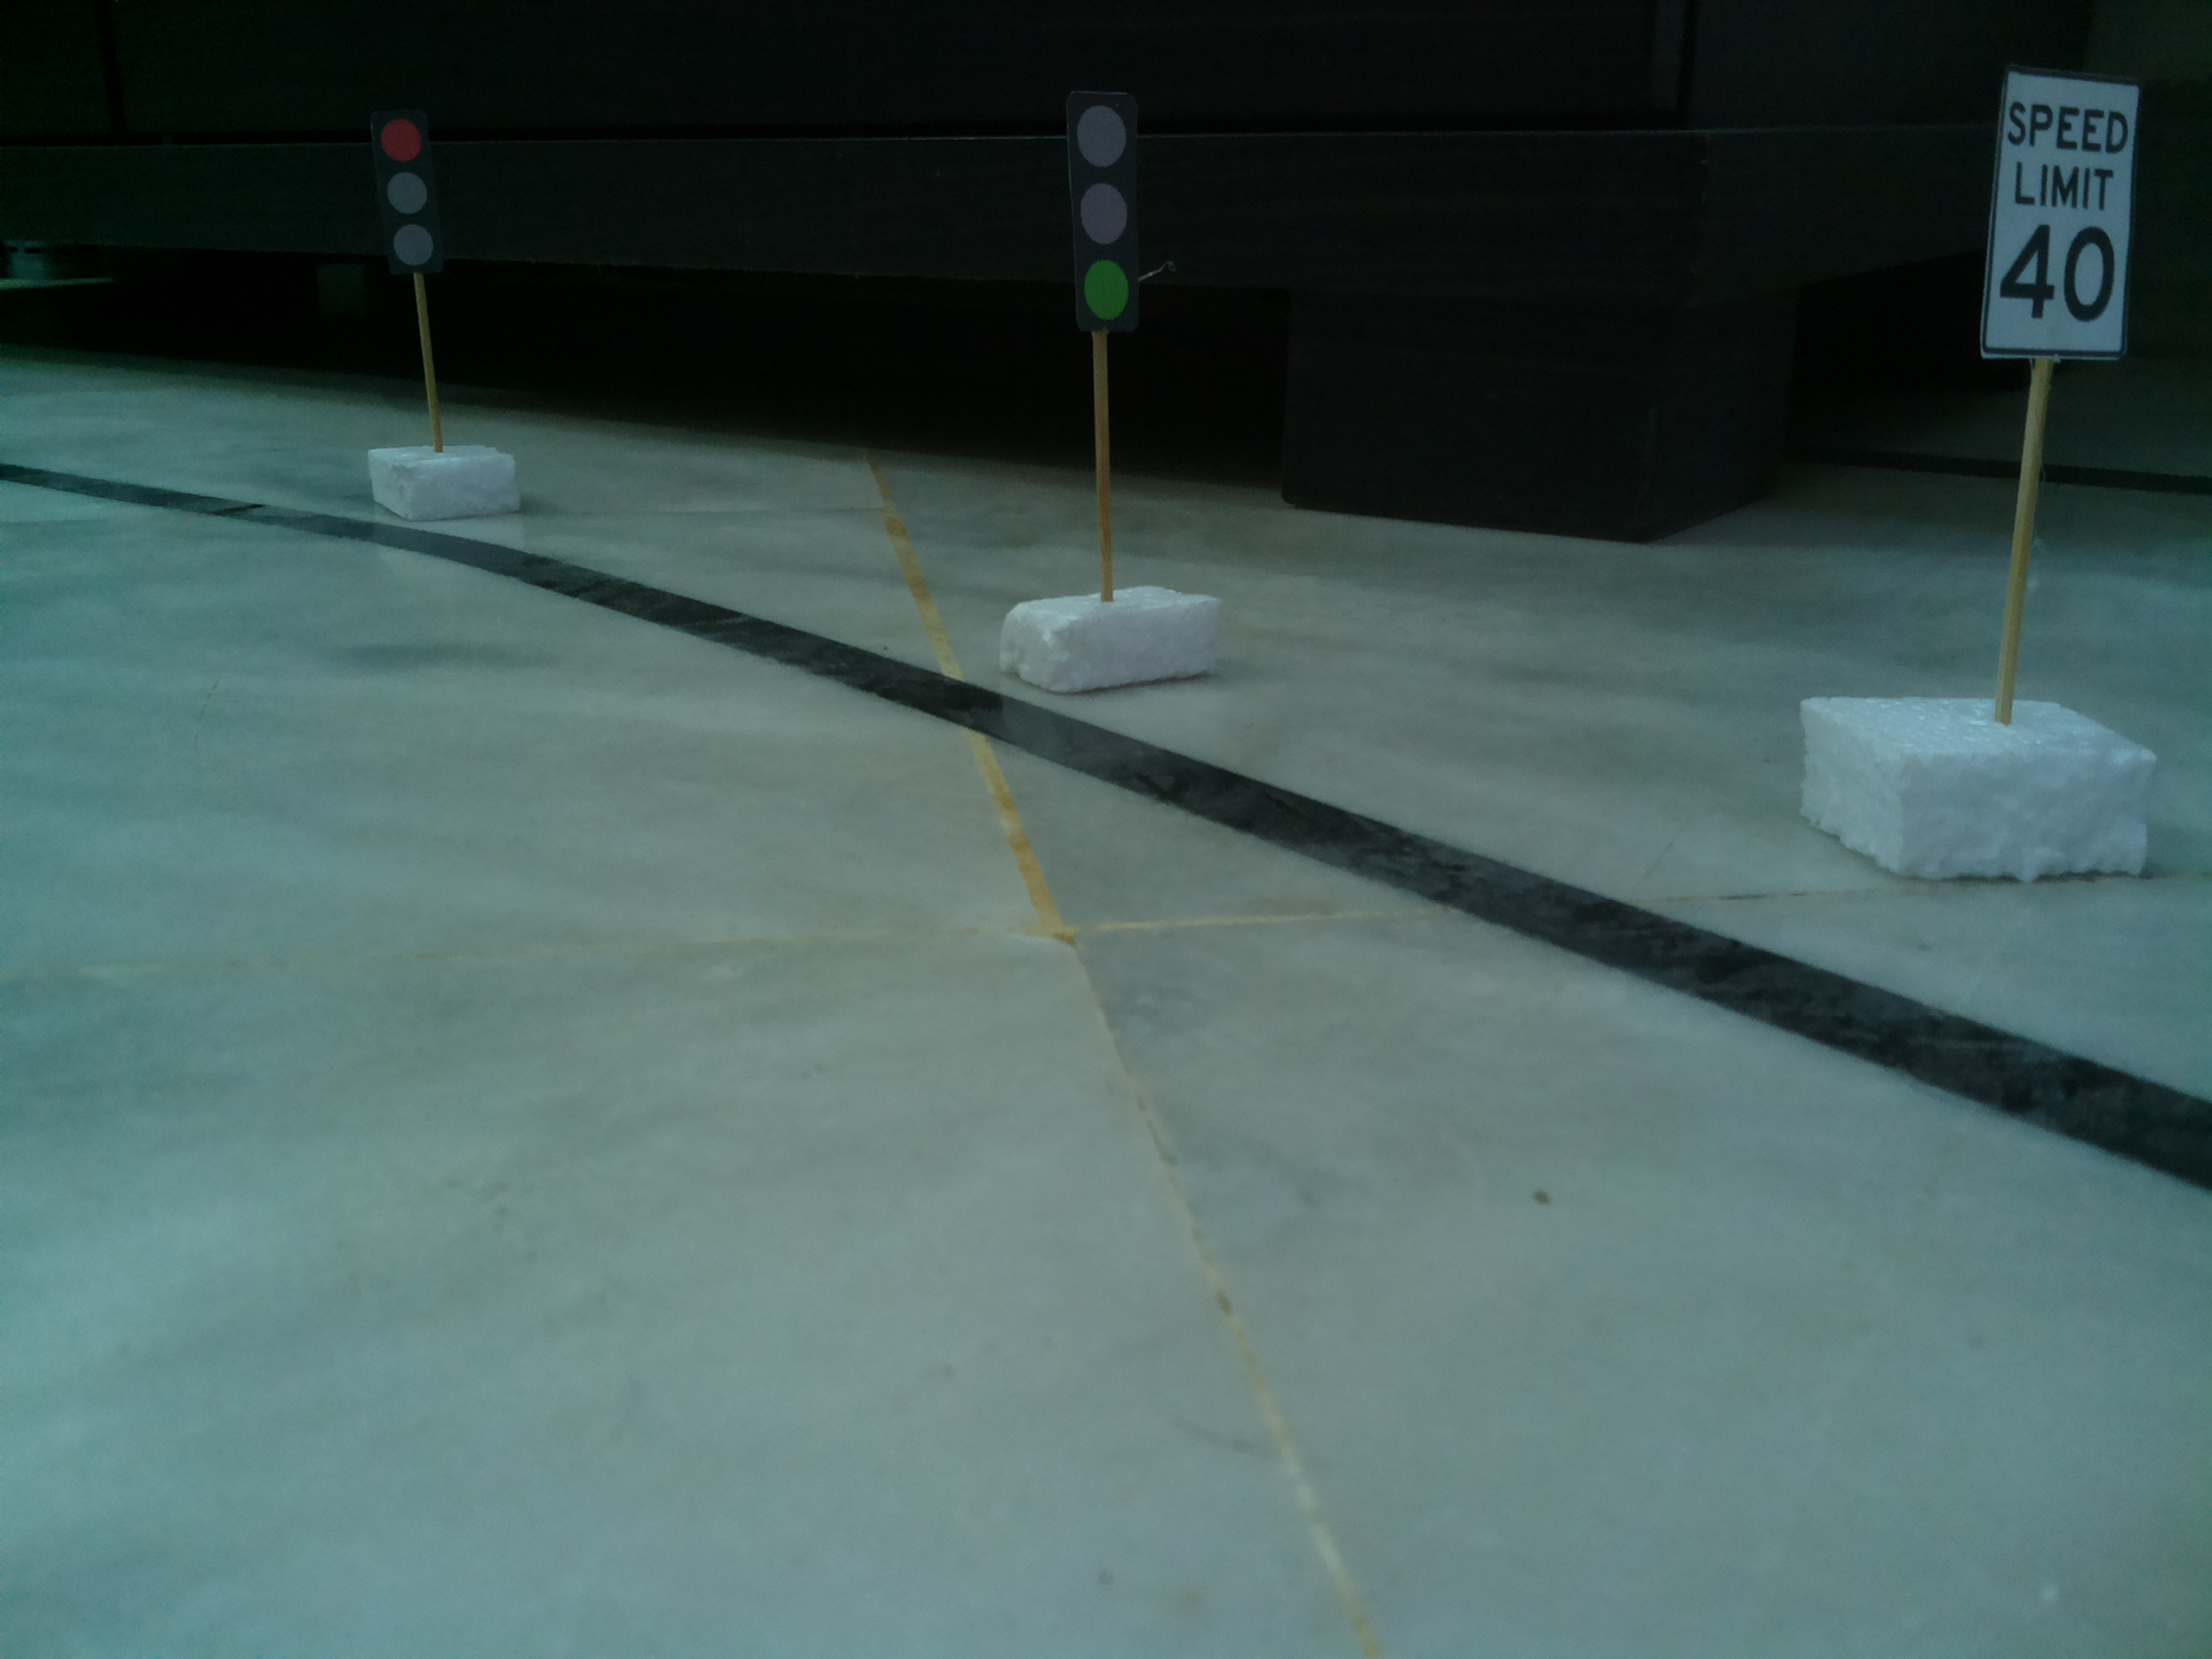Green traffic light: (1054, 68, 1177, 342)
Red traffic light: (350, 103, 455, 282)
Speed limit 40: (1979, 64, 2151, 376)
